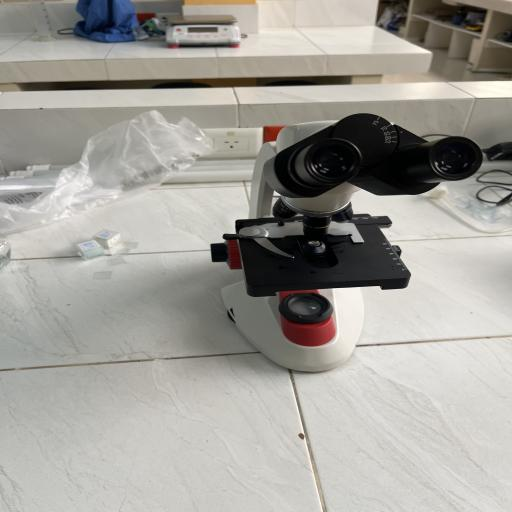Microscopio_Binocular: (203, 105, 493, 380)
